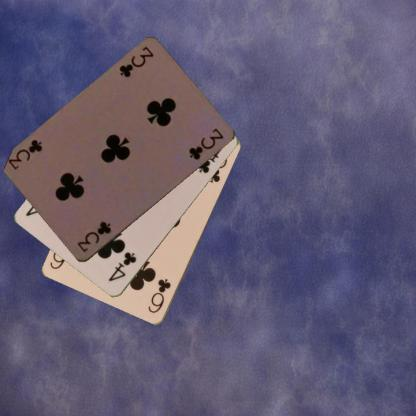3c: (74, 219, 113, 254), (116, 44, 155, 79)
4c: (106, 249, 138, 283)
6c: (146, 276, 172, 315)
